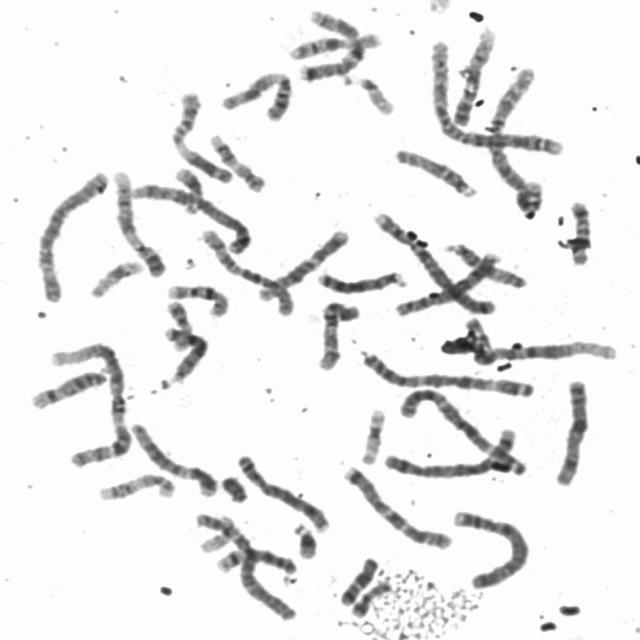A1: (46, 335, 135, 469), (459, 313, 620, 367)
A2: (422, 33, 570, 157), (482, 61, 546, 209)
A3: (396, 383, 530, 478), (357, 346, 538, 399)
B4: (370, 206, 502, 318), (447, 504, 532, 591)
B5: (124, 178, 256, 256), (379, 423, 523, 481)
C10: (196, 224, 298, 317), (313, 296, 364, 373)
C11: (165, 85, 235, 186), (217, 66, 295, 122)
C12: (253, 224, 354, 304), (124, 417, 221, 498)
C6: (188, 507, 300, 623), (30, 165, 111, 304)
C7: (339, 460, 457, 550), (293, 4, 366, 84)
C8: (233, 449, 333, 534), (391, 247, 503, 317)
C9: (108, 165, 169, 278), (449, 23, 500, 127)
D13: (156, 324, 211, 388), (313, 264, 409, 296)
D14: (25, 364, 112, 412), (211, 543, 301, 580)
D15: (391, 144, 481, 200), (440, 237, 531, 290)
E16: (284, 28, 385, 61), (161, 279, 230, 318)
E17: (205, 129, 268, 194), (92, 467, 178, 503)
E18: (335, 553, 380, 607), (564, 195, 594, 267)
F19: (84, 255, 145, 300), (355, 404, 388, 466)
F20: (160, 296, 194, 353), (348, 577, 392, 618)
G21: (170, 162, 205, 215), (288, 518, 320, 561)
G22: (348, 71, 397, 117), (195, 511, 238, 555)
X: (551, 374, 593, 488)
Y: (217, 470, 250, 504)
